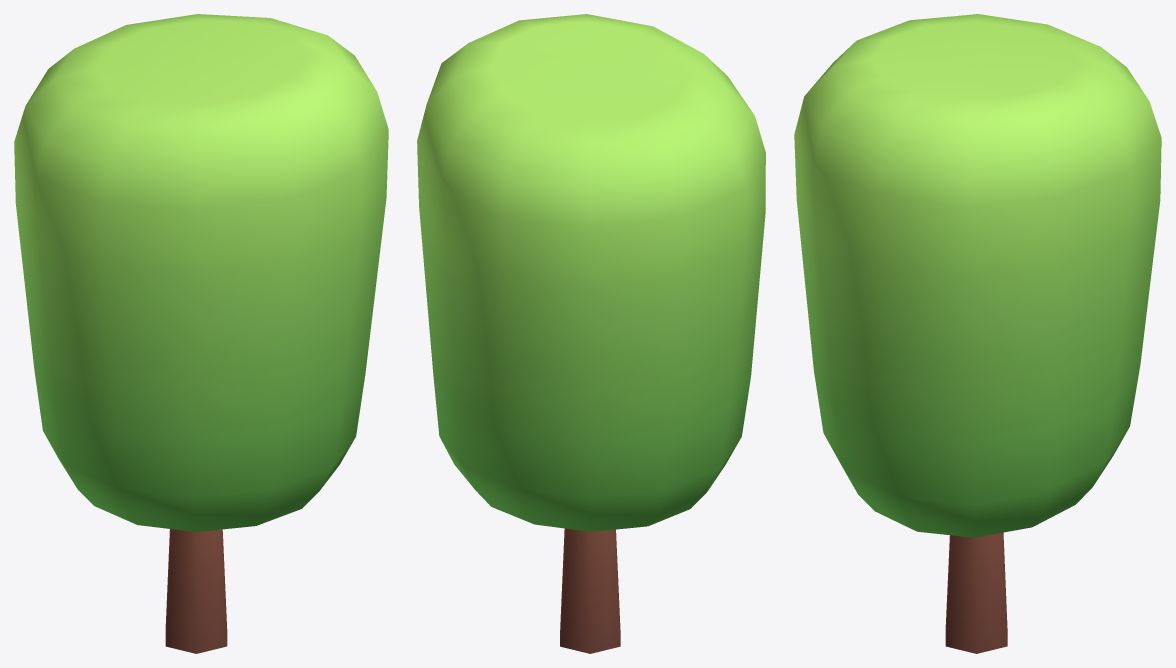
Rendered from city2-tree-03.glb.
The picture shows the model from 3 angles, left to right: view 1: azimuth 30°, elevation 25°; view 2: azimuth 150°, elevation 25°; view 3: azimuth 270°, elevation 25°; orthographic projection. The views are drawn at different scales.
Visible parts, largest first — view 1: Tree_03; view 2: Tree_03; view 3: Tree_03.
Part boxes in pixels (x1,y1,x2,y2): Tree_03: (14,14,388,653); Tree_03: (417,14,765,653); Tree_03: (794,14,1161,653).
Size of the model in its own units: 3.42 by 5.82 by 3.3.
1 material, 1 textured.
